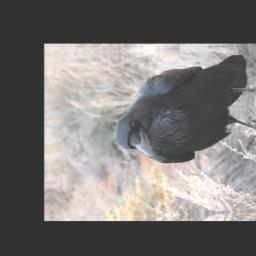Crow: (111, 51, 256, 168)
